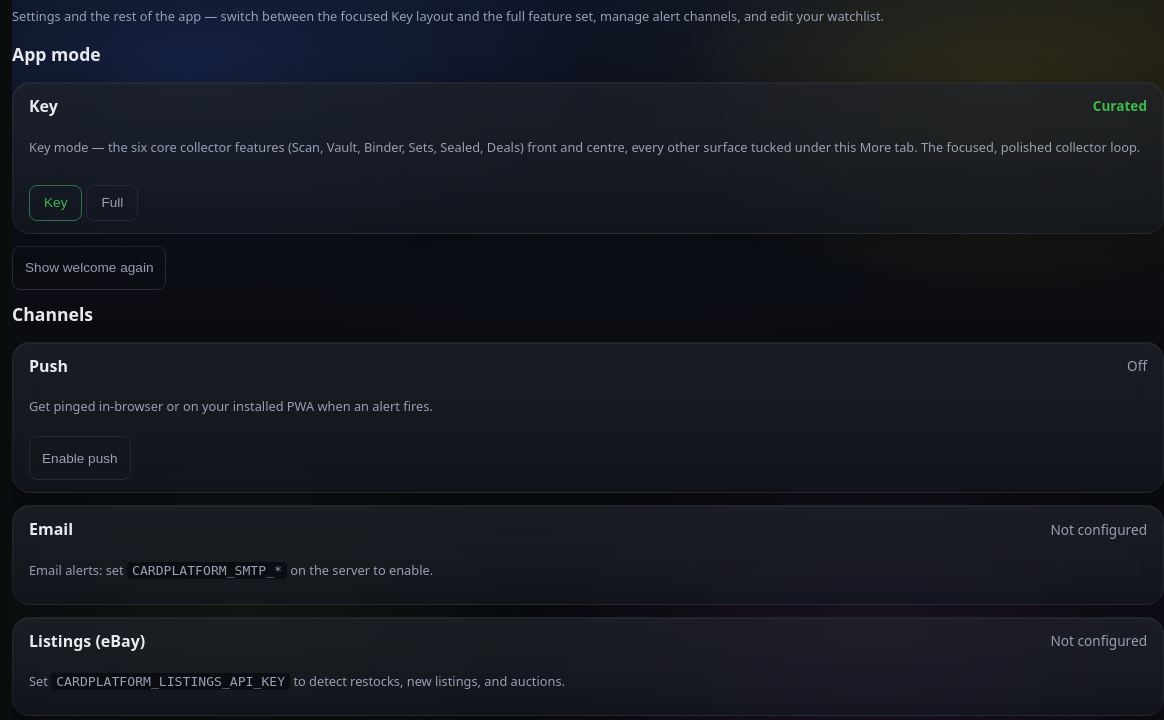
Scenario: More - welcome overlay re-show › 'Show welcome again' clears the dismissed flag and confirms
Click the button "Show welcome again" at (89, 268), box [12, 246, 166, 290]
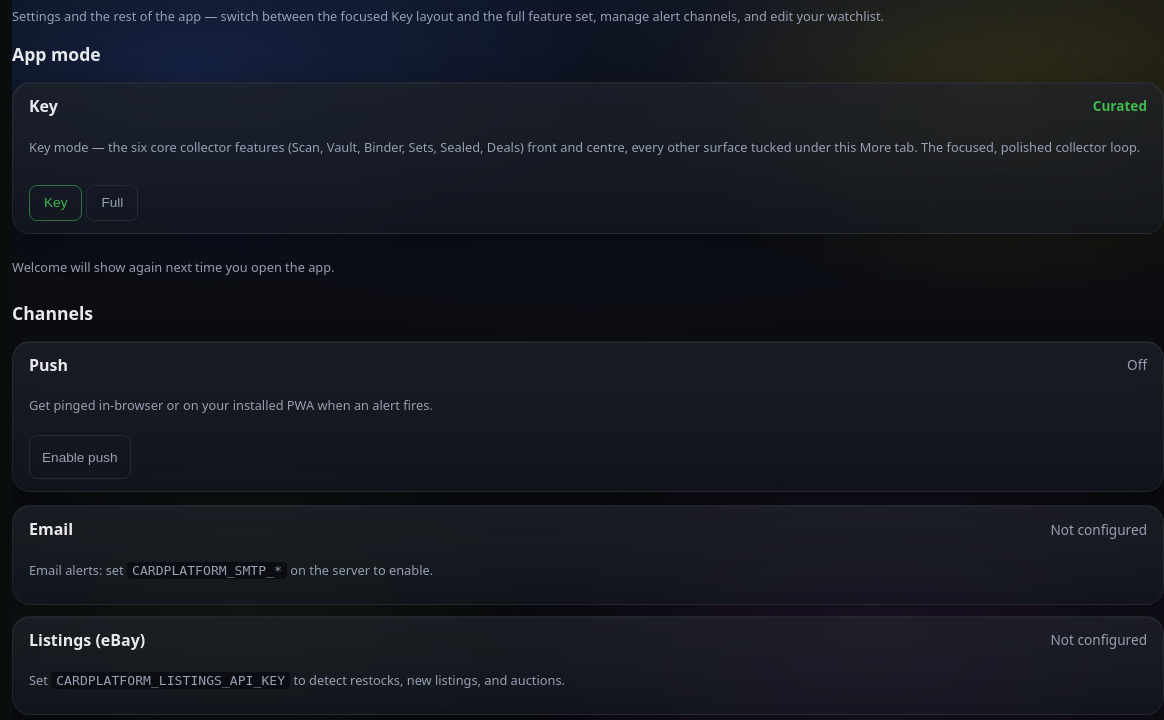
expect the text "Welcome will show again next time you open the app." is shown: met, box [12, 258, 334, 276]
